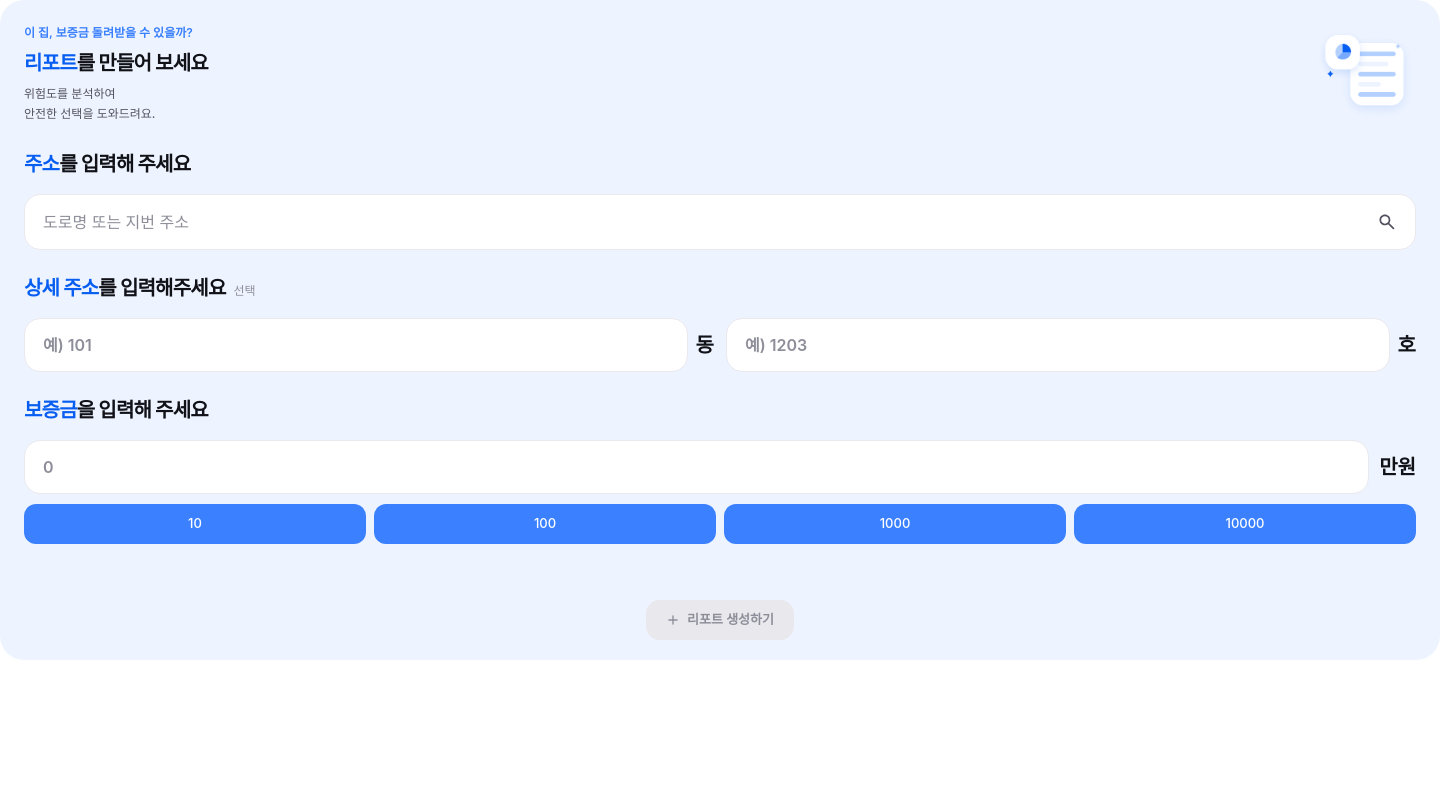
Test: ReportCreateForm › 유효한 값을 만든 후 주소를 수정하면 다시 비활성화한다
Step 1. Type "10000" into the field named "보증금" → (698,467), box x1=41 y1=454 x2=1354 y2=480
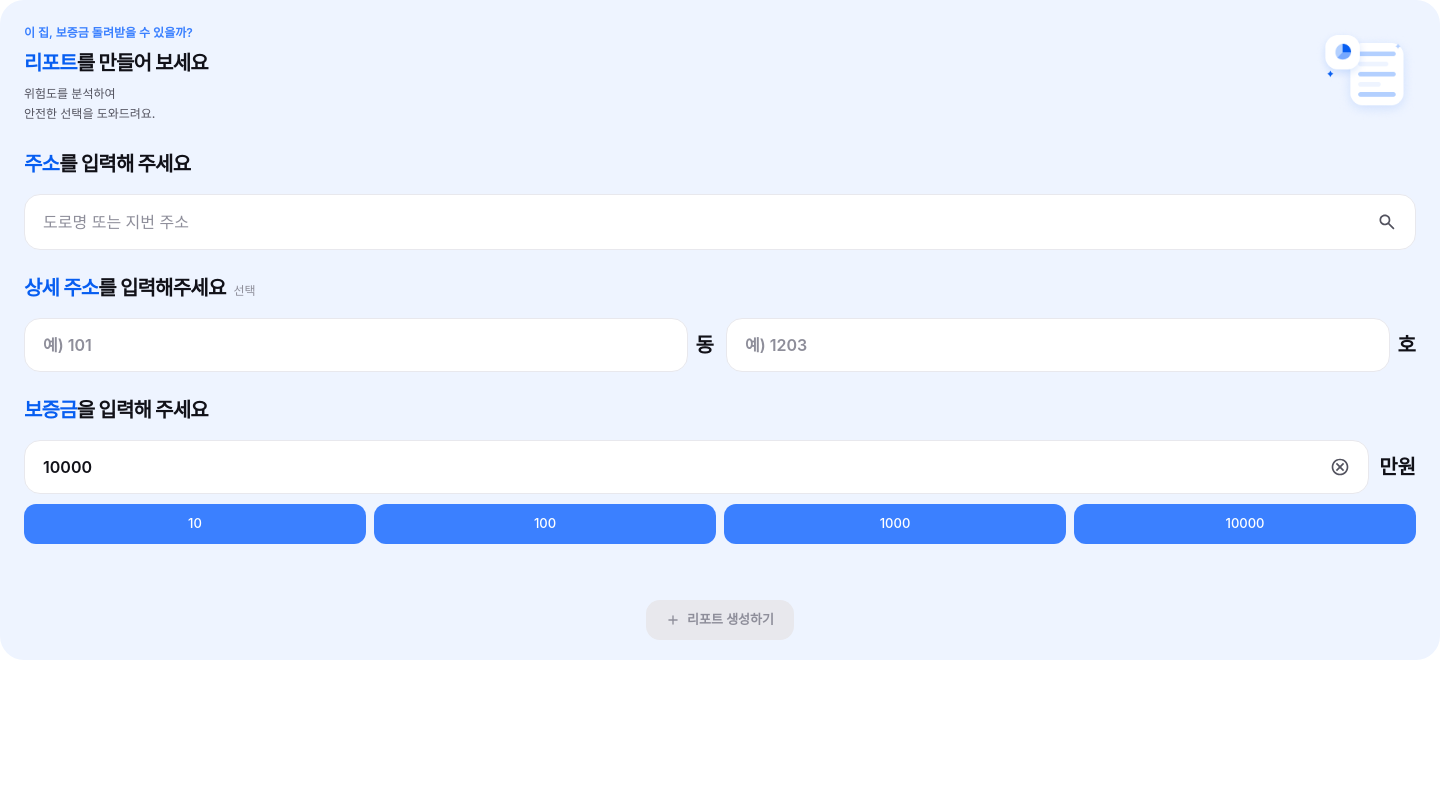
Step 2. Type "테헤란로" into the field named "주소 검색어" → (703,222), box x1=41 y1=209 x2=1365 y2=235
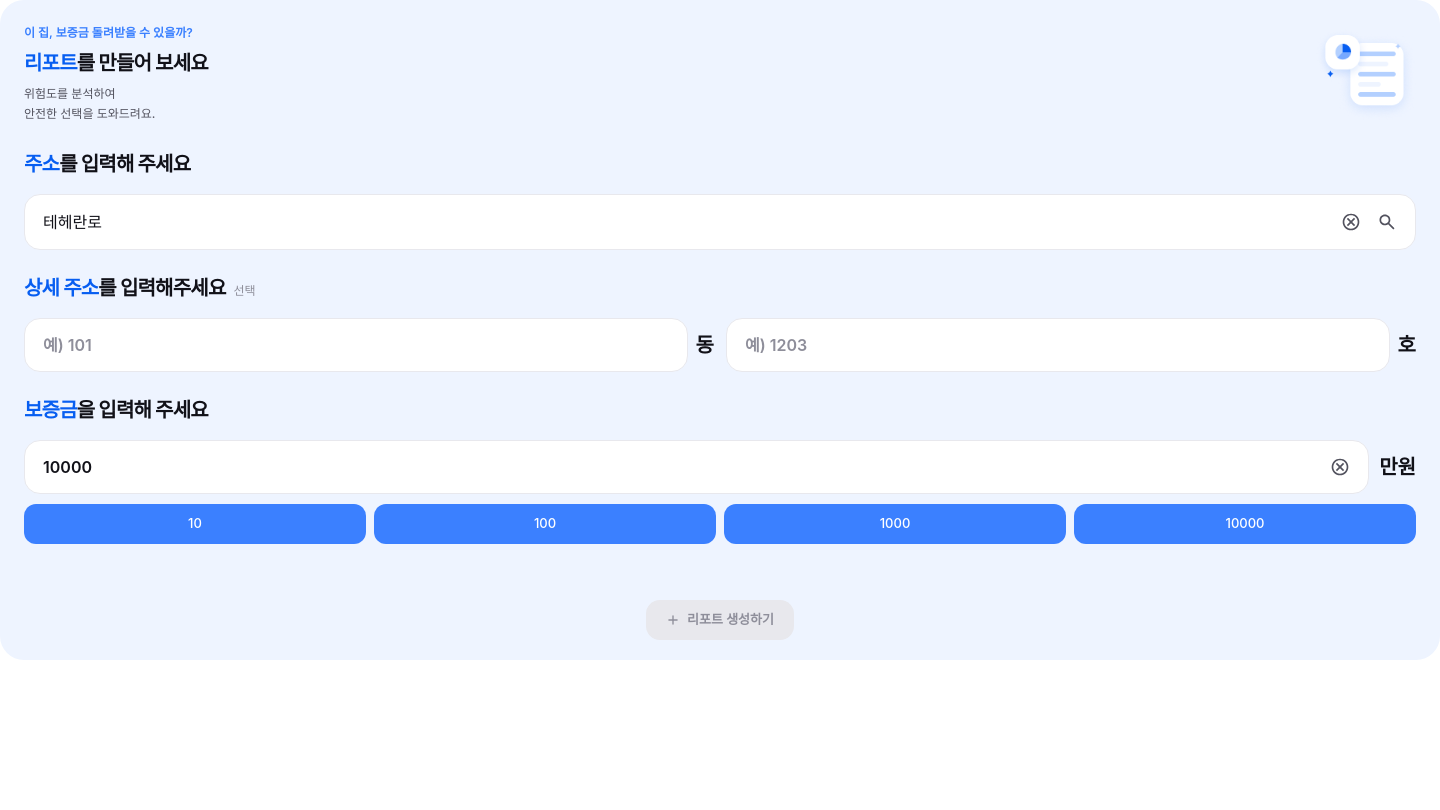
Step 3. Click the button named "주소 검색" → (1387,222), box x1=1373 y1=208 x2=1401 y2=236
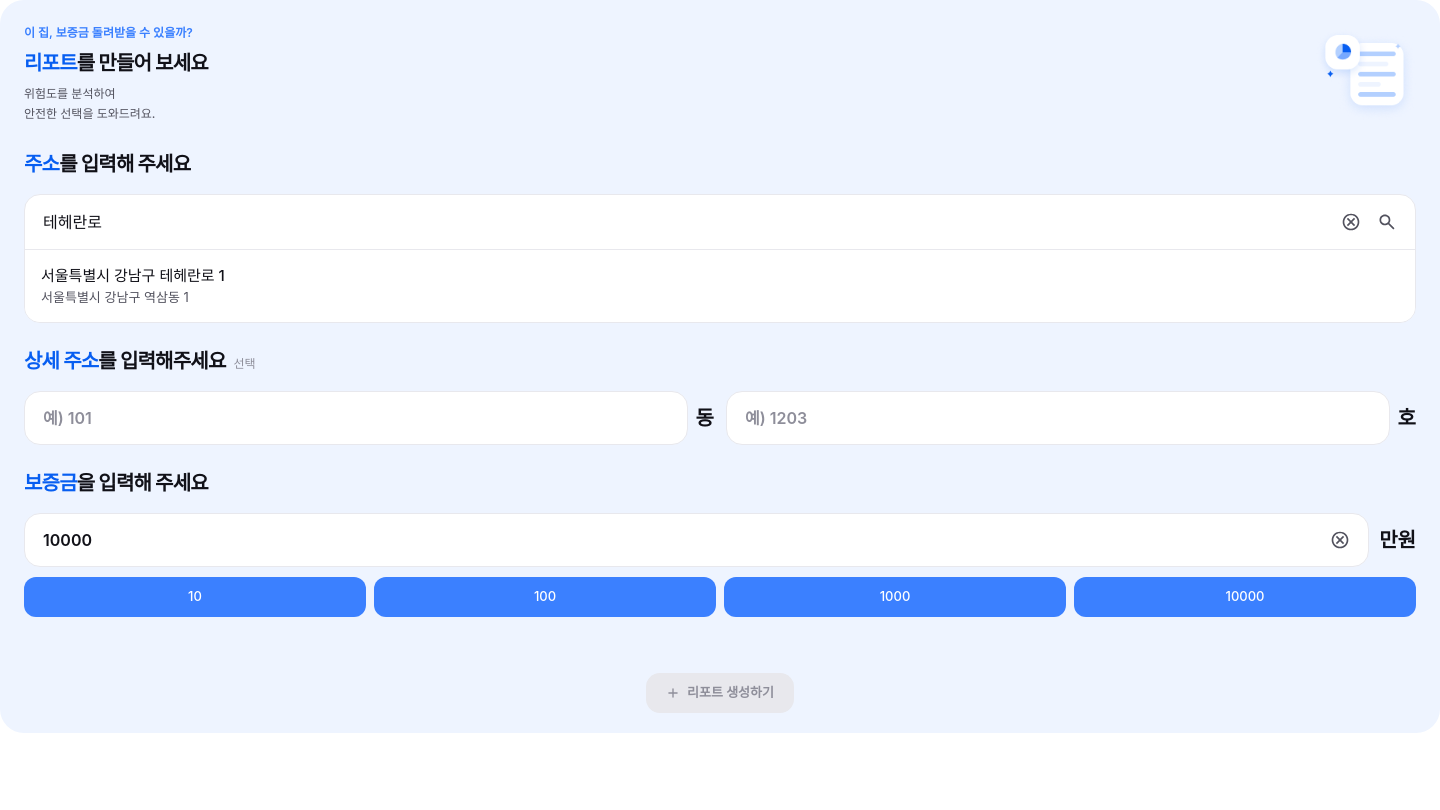
Step 4. Click the button with class "address-search__result" → (133,276), box x1=25 y1=250 x2=1415 y2=322
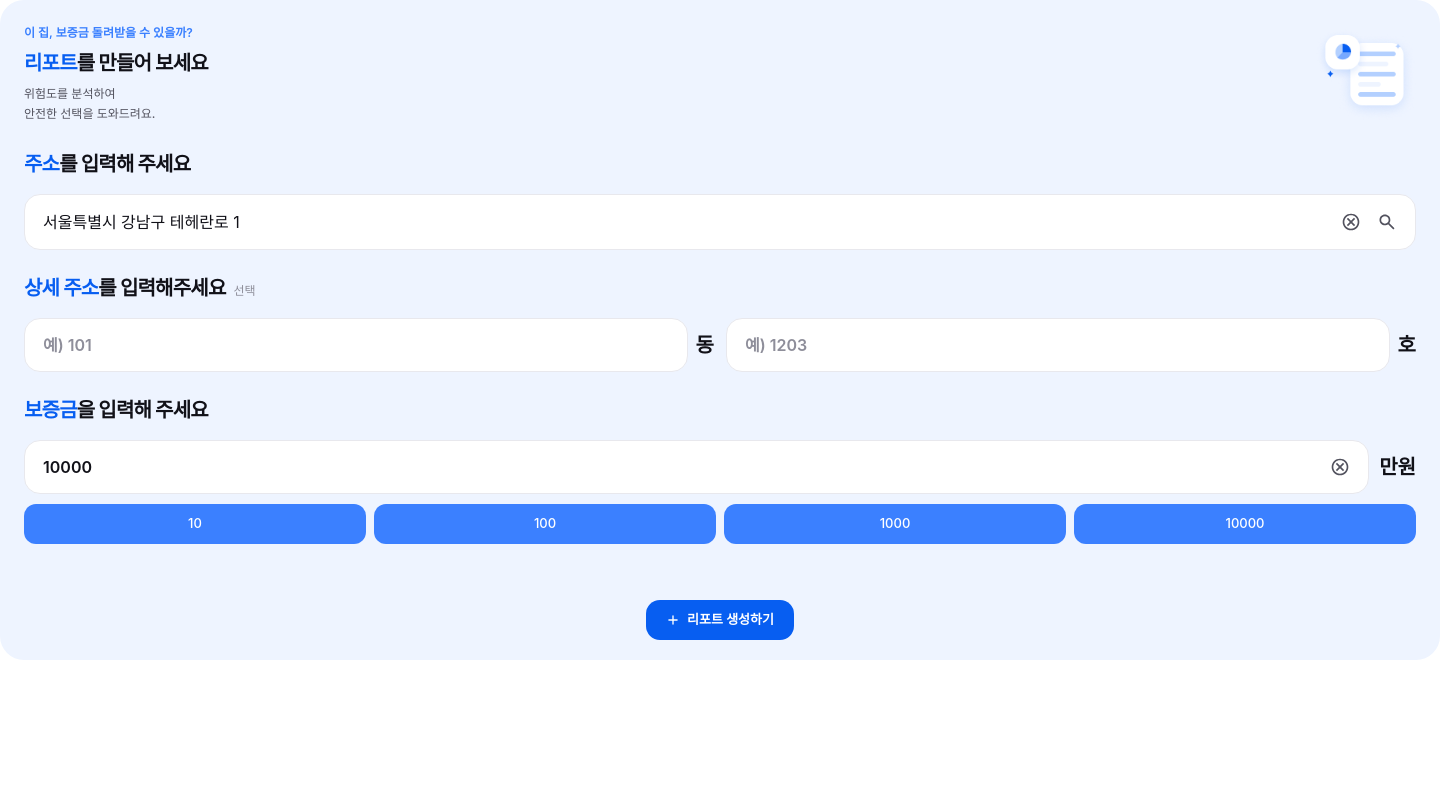
Now the button with class "report-create-form__submit" is enabled, box x1=646 y1=600 x2=794 y2=640
Step 5. Replace the text in the field named "주소 검색어" with "수정된 주소" → (685,222), box x1=41 y1=209 x2=1329 y2=235
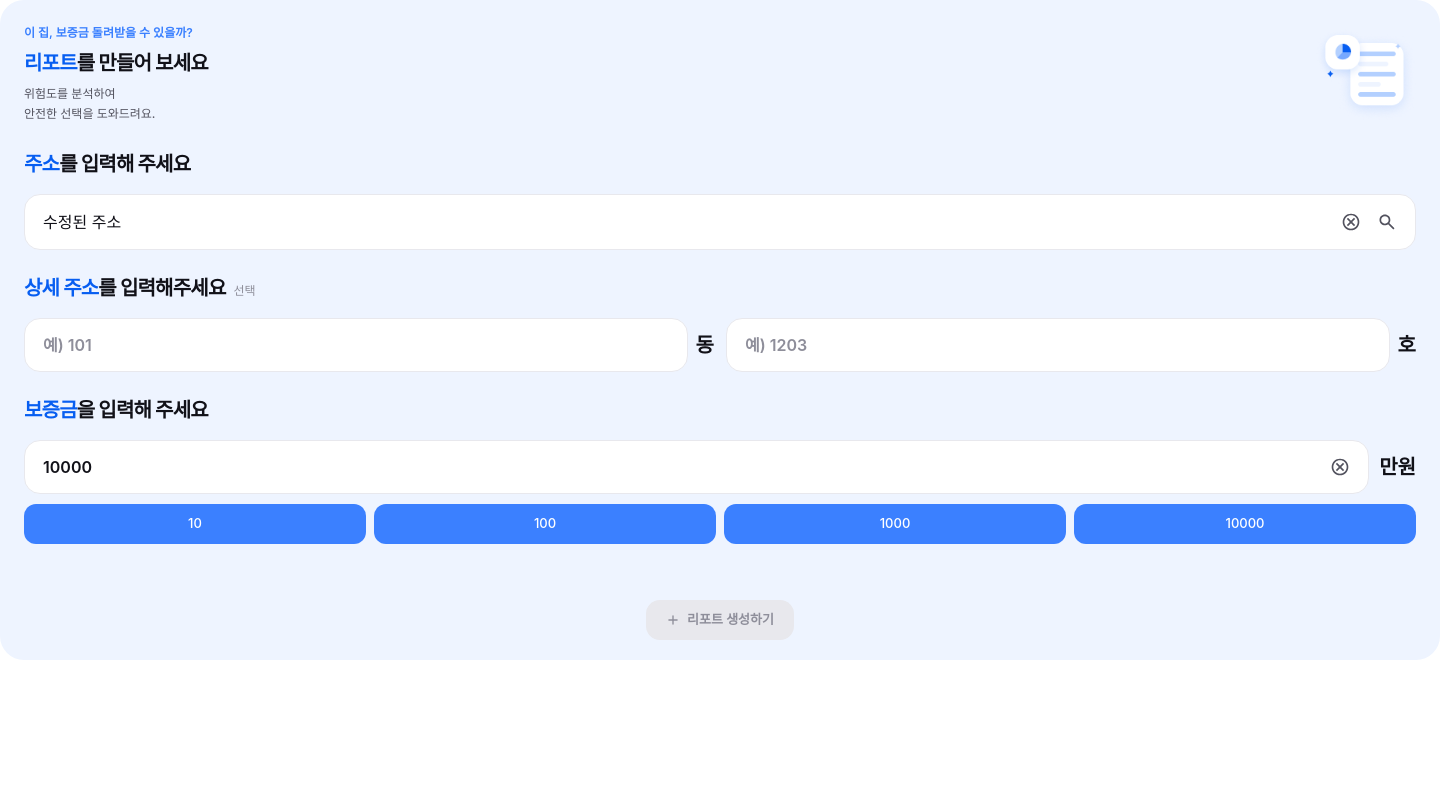
Now the button with class "report-create-form__submit" is disabled, box x1=646 y1=600 x2=794 y2=640
